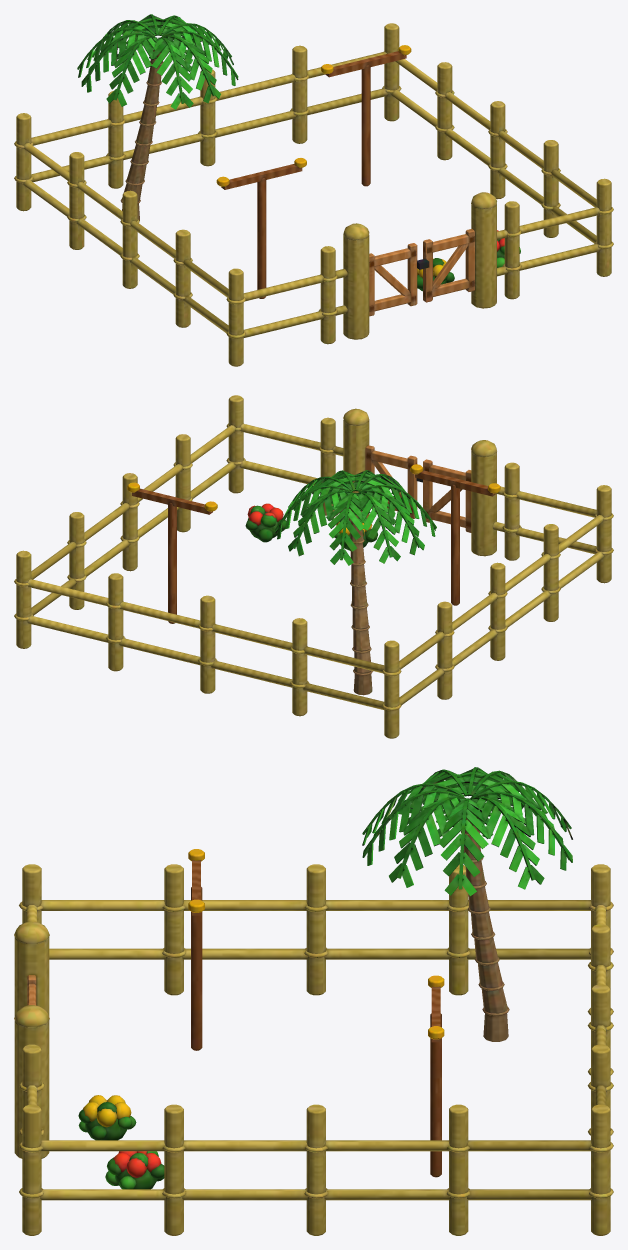
Rendered from parrot_aviary.glb.
3 views of the same model, one above another, from view 1: azimuth 30°, elevation 25°; view 2: azimuth 150°, elevation 25°; view 3: azimuth 270°, elevation 25° (orthographic). The views are drawn at different scales.
Parts seen in each view (by area): view 1: parrot_aviary; view 2: parrot_aviary; view 3: parrot_aviary.
Boxes of the visible parts, x1,y1,x2,y2 form: parrot_aviary: (14,14,613,366); parrot_aviary: (14,395,613,738); parrot_aviary: (14,767,613,1235).
Bounding box in the file's own units: 1.99 × 0.972 × 2.
Materials: 1 (1 with a texture image).
